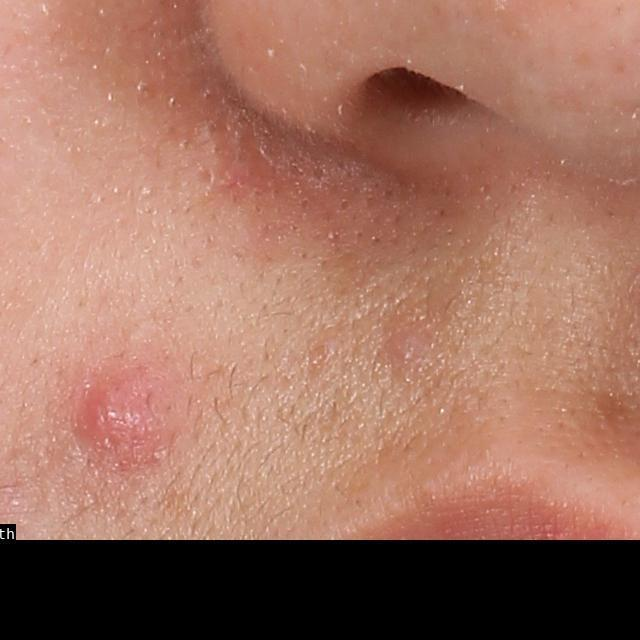papule: (81, 378, 168, 471), (391, 329, 424, 363)
